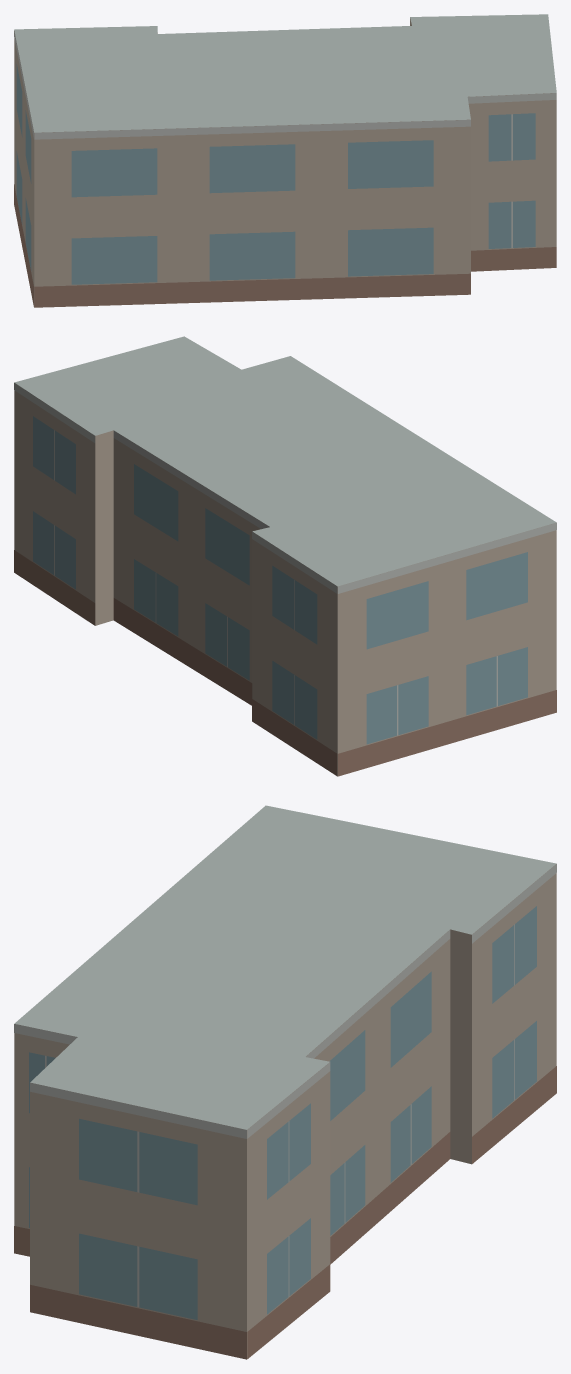
File: survey-upis-32885216.glb
3 renders of one model, top to bottom at view 1: azimuth 30°, elevation 25°; view 2: azimuth 150°, elevation 25°; view 3: azimuth 270°, elevation 25°, orthographic. The views are drawn at different scales.
Visible parts, largest first — view 1: survey-upis-32885216.tmp; view 2: survey-upis-32885216.tmp; view 3: survey-upis-32885216.tmp.
Boxes of the visible parts, x1,y1,x2,y2 form: survey-upis-32885216.tmp: (14, 14, 556, 307); survey-upis-32885216.tmp: (14, 336, 556, 776); survey-upis-32885216.tmp: (14, 805, 556, 1359).
Bounding box in the file's own units: 18.5 × 6.1 × 13.08.
